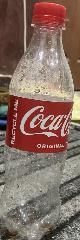plastic: (1, 2, 75, 240)
